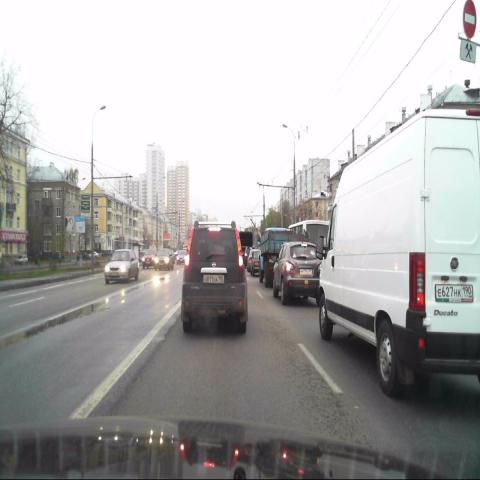8_5_2: (458, 39, 478, 64)
